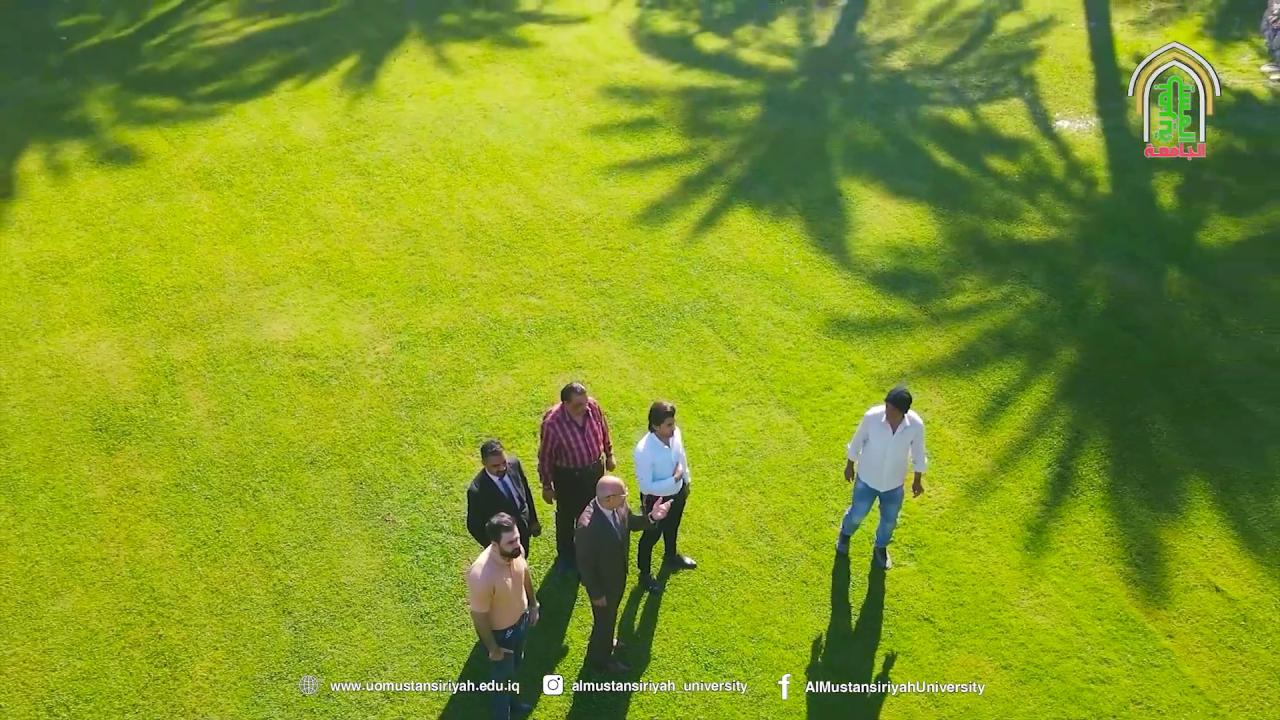person: (573, 475, 672, 676), (835, 385, 927, 570), (465, 512, 540, 719), (537, 381, 616, 575), (633, 401, 697, 593), (466, 439, 542, 562)
